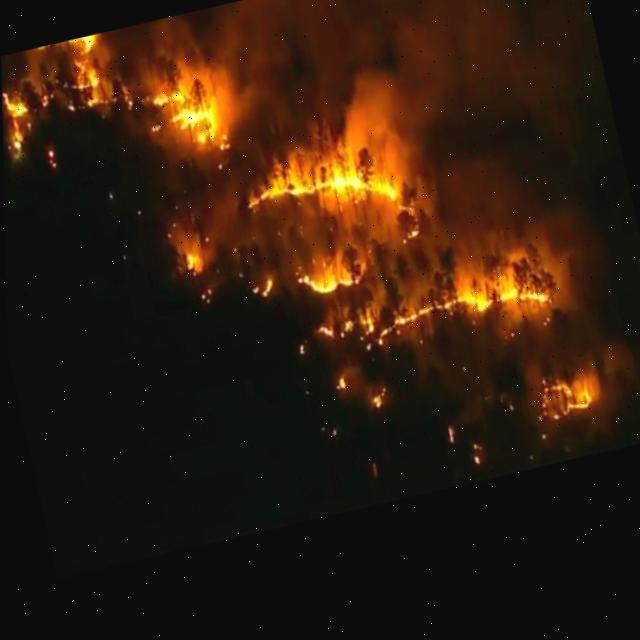fire: (282, 240, 560, 364), (2, 33, 232, 143), (243, 158, 421, 241), (534, 380, 596, 429)
smoke: (214, 0, 579, 191)
